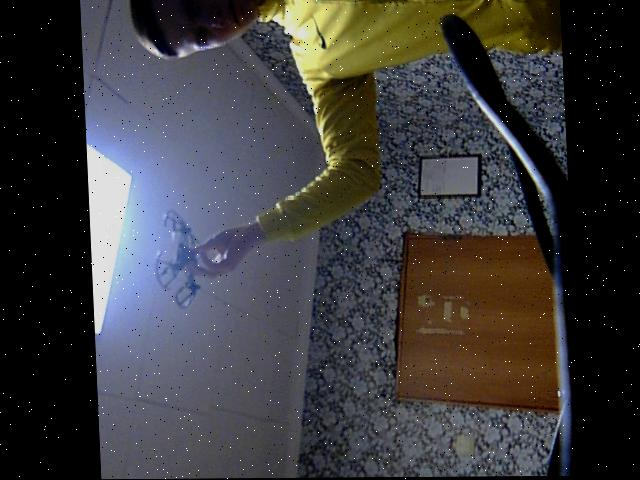drone: (147, 211, 213, 311)
